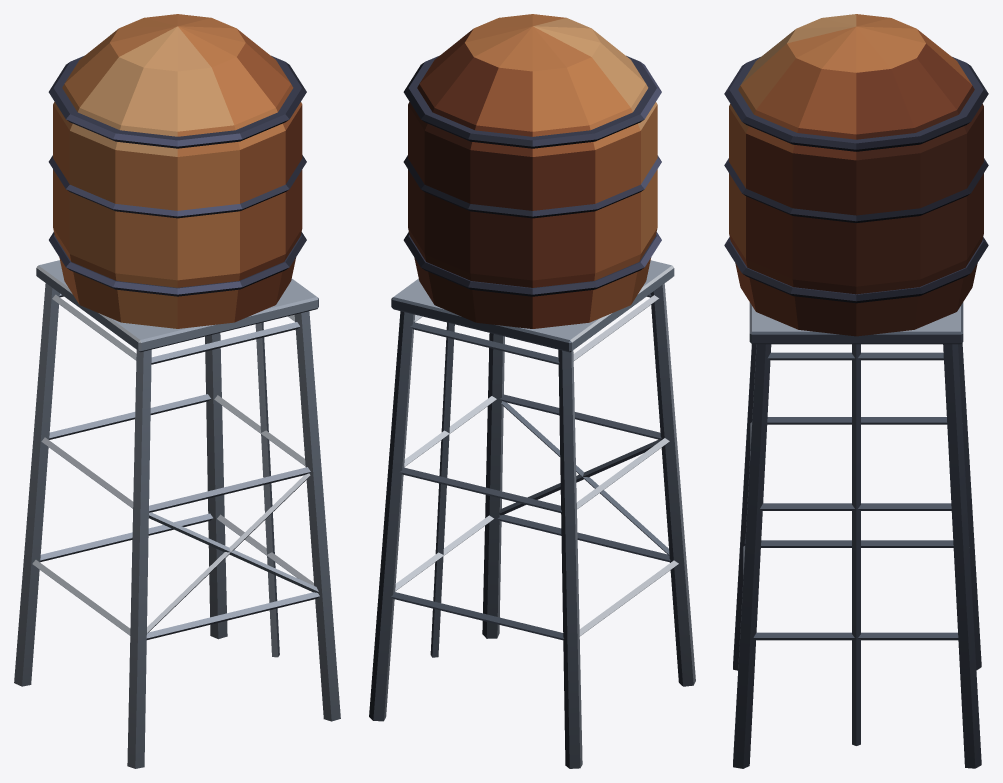
The model's file is water_tower.glb.
3 renders of one model, left to right at view 1: azimuth 30°, elevation 25°; view 2: azimuth 150°, elevation 25°; view 3: azimuth 270°, elevation 25°, orthographic. The views are drawn at different scales.
Parts seen in each view (by area): view 1: water_tower; view 2: water_tower; view 3: water_tower.
Part boxes in pixels (x1,y1,x2,y2): water_tower: (14,14,340,768); water_tower: (369,14,695,768); water_tower: (724,14,988,768).
Bounding box in the file's own units: 1.14 × 3.28 × 1.14.
